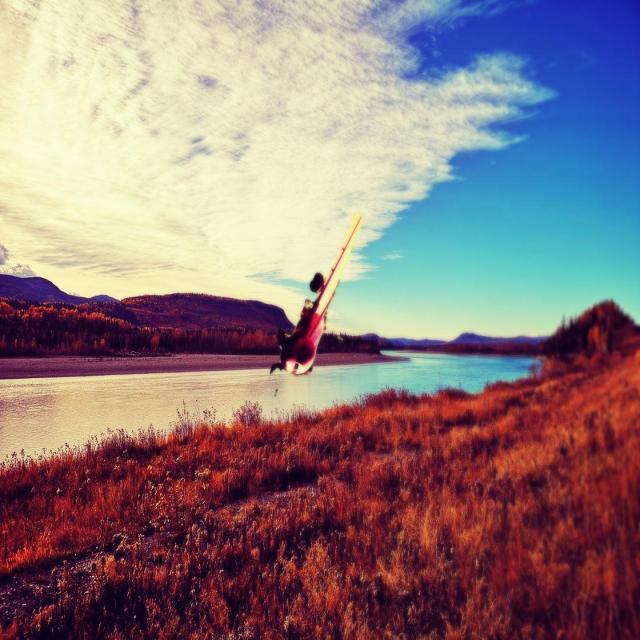airplane: (268, 212, 362, 376)
